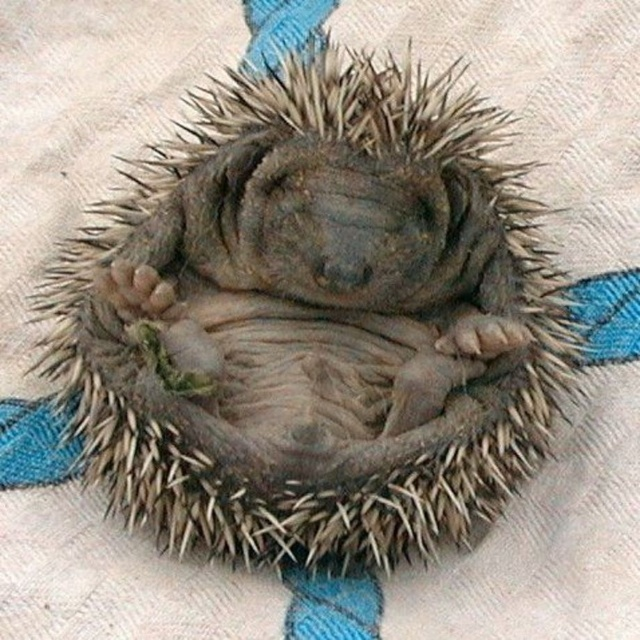Hedgehog: (19, 25, 594, 585)
